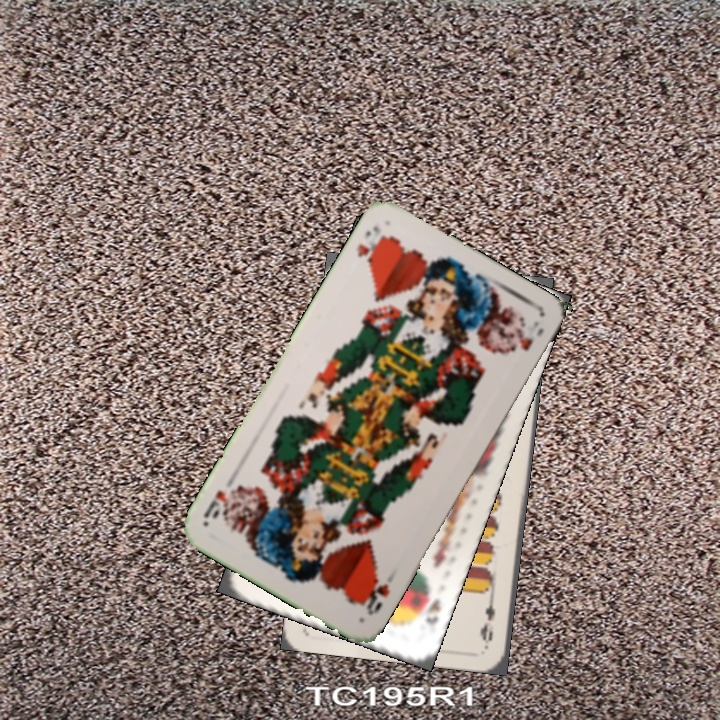E9: (476, 587, 498, 646)
HO: (356, 569, 392, 618), (352, 221, 388, 269)
SK: (414, 581, 444, 628)
